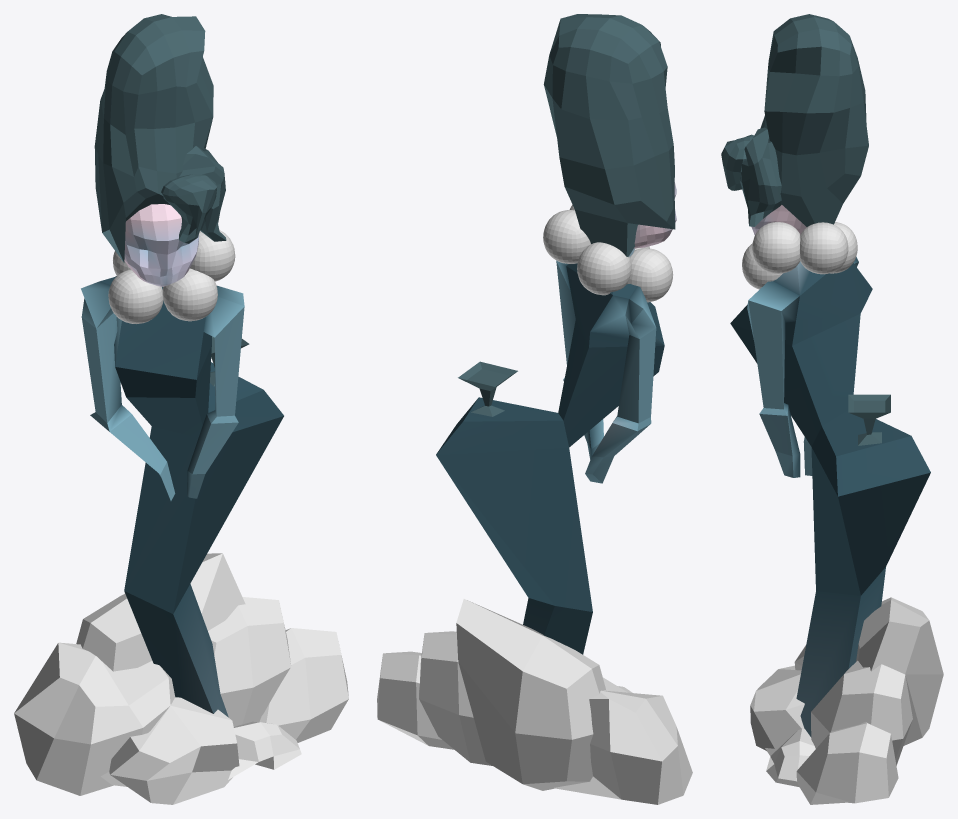
Rendered from statue model.fbx.
The picture shows the model from 3 angles, left to right: view 1: azimuth 30°, elevation 25°; view 2: azimuth 150°, elevation 25°; view 3: azimuth 270°, elevation 25°; orthographic projection. The views are drawn at different scales.
Parts seen in each view (by area): view 1: Cube.006, Cube.013, Cube.009, Cube.010, Cube.007, Cube.008, Cube.012, Cube, Cube.011, Cube.014, Cube.001, Cube.003 (+2 smaller); view 2: Cube.006, Cube.013, Cube.012, Cube.009, Cube.007, Cube.008, Cube.002, Cube.004, Cube.001, Cube.016, Cube; view 3: Cube.006, Cube.013, Cube.012, Cube.008, Cube.007, Cube.010, Cube.015, Cube.004, Cube.005, Cube.011, Cube.016, Cube.014 (+3 smaller).
Boxes of the visible parts, x1,y1,x2,y2 form: Cube.006: (81, 276, 283, 717); Cube.013: (94, 14, 213, 262); Cube.009: (14, 642, 175, 795); Cube.010: (101, 697, 239, 804); Cube.007: (208, 597, 291, 726); Cube.008: (259, 628, 348, 742); Cube.012: (76, 553, 245, 671); Cube: (124, 204, 198, 286); Cube.011: (228, 721, 301, 779); Cube.014: (161, 174, 217, 243); Cube.001: (108, 269, 163, 323); Cube.003: (162, 268, 217, 321); Cube.006: (436, 248, 664, 654); Cube.013: (543, 14, 675, 256); Cube.012: (456, 599, 605, 790); Cube.009: (553, 677, 692, 804); Cube.007: (419, 631, 492, 765); Cube.008: (377, 651, 454, 749); Cube.002: (577, 242, 631, 295); Cube.004: (543, 210, 590, 263); Cube.001: (627, 248, 673, 302); Cube.016: (458, 361, 517, 416); Cube: (634, 182, 676, 248); Cube.006: (730, 256, 930, 737); Cube.013: (760, 14, 868, 226); Cube.012: (856, 597, 943, 745); Cube.008: (796, 722, 898, 804); Cube.007: (811, 660, 912, 765); Cube.010: (750, 665, 804, 750); Cube.015: (739, 127, 781, 226); Cube.004: (800, 222, 848, 274); Cube.005: (752, 222, 800, 273); Cube.011: (765, 728, 815, 787); Cube.016: (848, 394, 890, 445); Cube.014: (721, 134, 754, 190).
Size of the model in its own units: 309 by 723 by 203.
